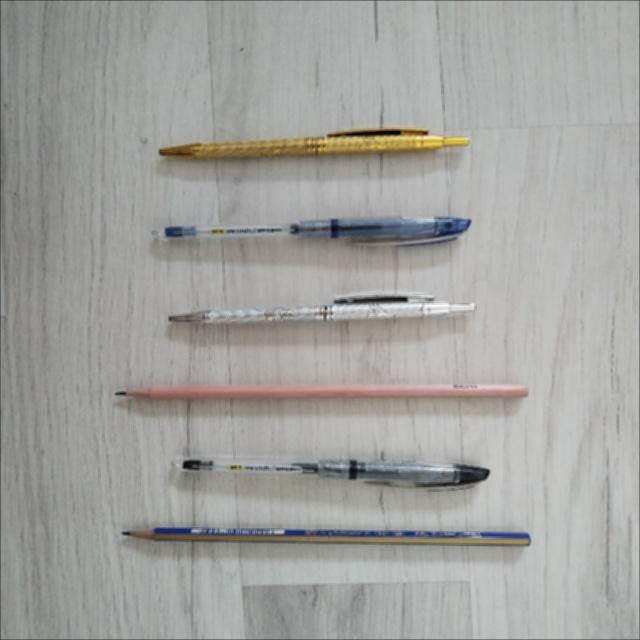pen: (172, 456, 489, 489), (153, 217, 470, 245)
pencil: (122, 527, 530, 546), (116, 383, 527, 399)
signature pen: (169, 293, 475, 324), (159, 128, 468, 157)
